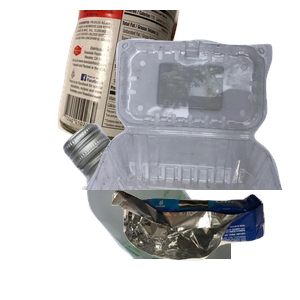glass: (60, 120, 300, 300)
metal: (55, 10, 227, 149)
plastic: (80, 36, 300, 216)
trash: (109, 187, 300, 300)
